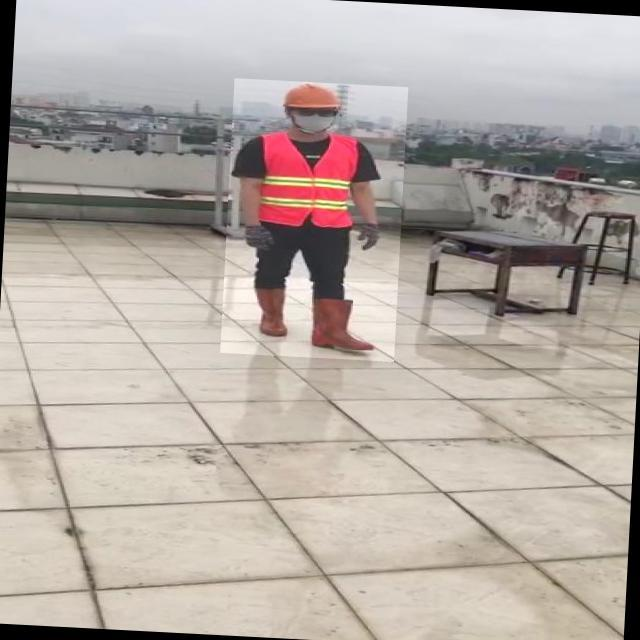Gloves: (349, 226, 386, 254), (240, 226, 273, 257)
Helmet: (279, 82, 348, 115)
Human: (221, 79, 409, 364)
Safety Boot: (313, 301, 384, 354), (249, 287, 290, 337)
Safety Vest: (257, 133, 358, 233)
